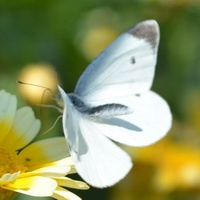insect: (58, 20, 171, 187)
